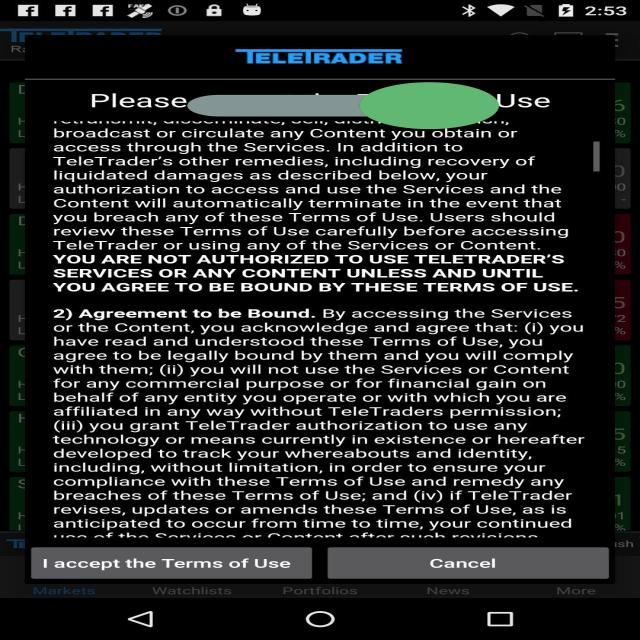social proof: (187, 53, 499, 158)
